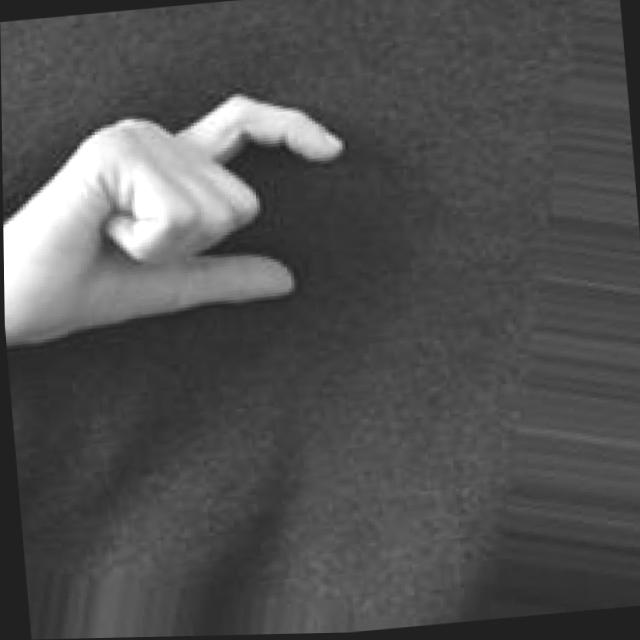C: (1, 79, 369, 348)
